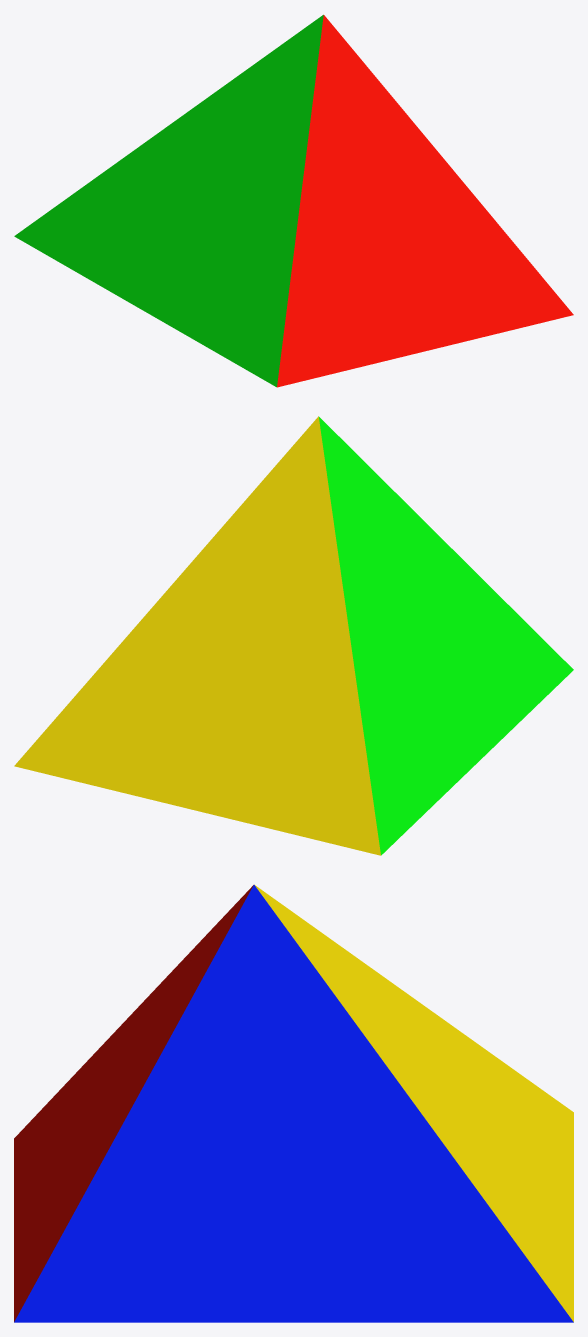
Rendered from pyramid5colorsNoLines.dae.
The picture shows the model from 3 angles, top to bottom: view 1: azimuth 30°, elevation 25°; view 2: azimuth 150°, elevation 25°; view 3: azimuth 270°, elevation 25°; orthographic projection. The views are drawn at different scales.
Visible parts, largest first — view 1: SketchUp (×2); view 2: SketchUp (×2); view 3: SketchUp (×3).
Part boxes in pixels (box(x1,y1,x2,y2)): SketchUp (×2): box(14, 15, 573, 387); SketchUp (×2): box(14, 416, 573, 855); SketchUp (×3): box(14, 884, 573, 1322).
Bounding box in the file's own units: 55.27 × 62.25 × 41.92.
